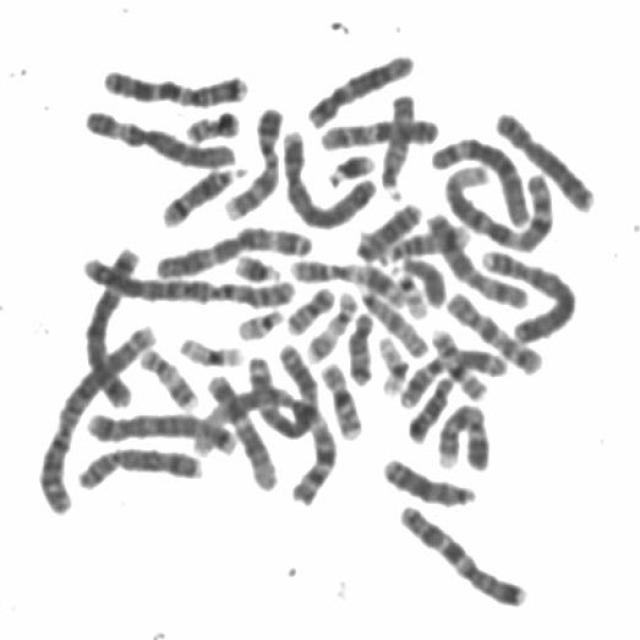A1: (195, 367, 342, 509), (434, 150, 558, 252)
A2: (29, 313, 158, 517), (73, 243, 301, 309)
A3: (148, 216, 318, 280), (241, 335, 321, 441)
B4: (276, 119, 380, 230), (474, 240, 578, 344)
B5: (77, 238, 146, 408), (80, 399, 241, 457)
C10: (439, 281, 547, 377), (312, 108, 443, 152)
C11: (392, 339, 510, 410), (283, 249, 410, 309)
C12: (197, 365, 281, 492), (300, 43, 418, 130)
C6: (76, 98, 240, 170), (424, 125, 534, 228)
C7: (390, 493, 531, 610), (95, 58, 251, 107)
C8: (486, 100, 600, 214), (68, 437, 205, 492)
C9: (216, 97, 288, 221), (430, 394, 493, 472)
D13: (376, 448, 478, 509), (347, 191, 426, 264)
D14: (153, 156, 247, 229), (378, 216, 472, 263)
D15: (352, 276, 432, 359), (374, 84, 418, 199)
E16: (423, 319, 491, 403), (313, 353, 365, 441)
E17: (297, 281, 361, 364), (133, 339, 201, 411)
E18: (401, 366, 460, 445), (340, 302, 377, 386)
F19: (172, 326, 248, 369), (370, 326, 411, 398)
F20: (279, 276, 338, 336), (178, 99, 244, 144)
G21: (318, 142, 378, 188), (226, 243, 284, 284)
G22: (389, 254, 432, 321), (230, 298, 288, 342)
X: (420, 203, 531, 309)
Y: (388, 247, 449, 309)
